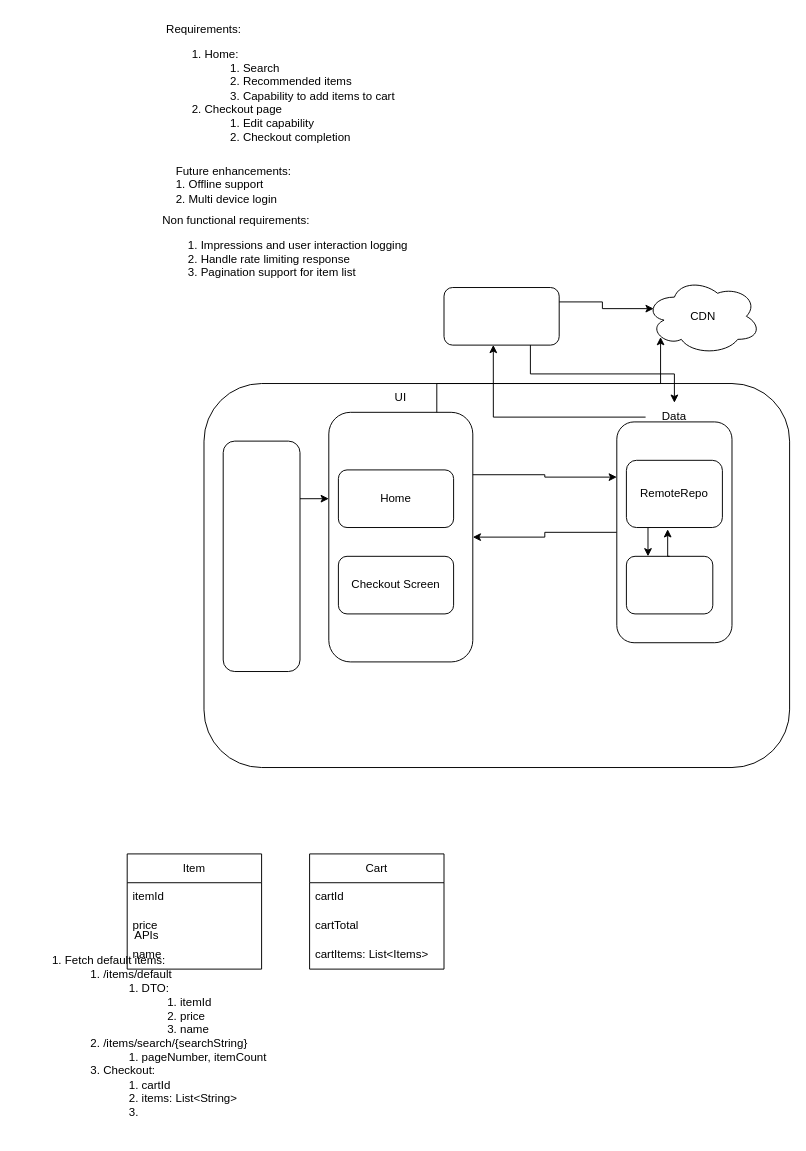
This 806x1151 diagram has some shape labels left out. The shapes that lost their labels are listed below. From the top down, each one's box as (x1, y1, x2, y2) in pixels, then its label:
(443, 287, 559, 345): Backend
(222, 440, 300, 672): DI
(625, 555, 713, 614): ItemRepo
